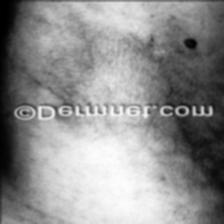Unclassified: (54, 65, 175, 136), (179, 28, 207, 48)
